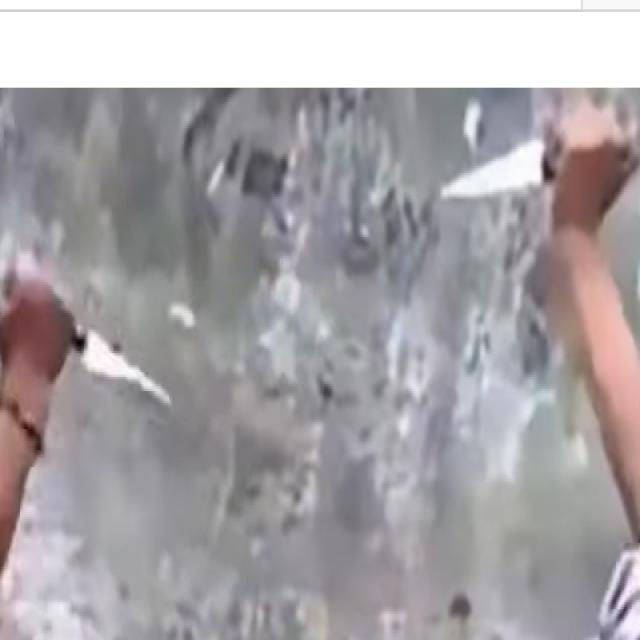Fknife: (433, 123, 588, 242), (64, 305, 182, 439)
